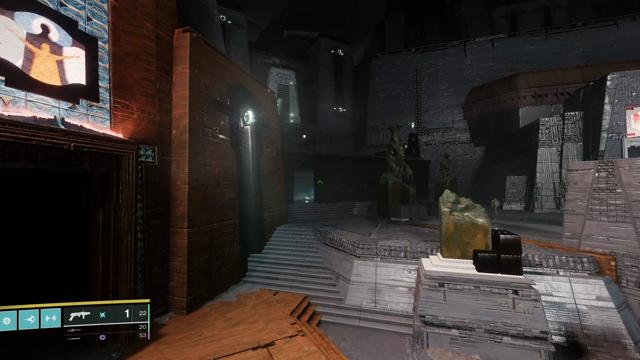give: (631, 112, 640, 130)
worship: (0, 8, 86, 86)
